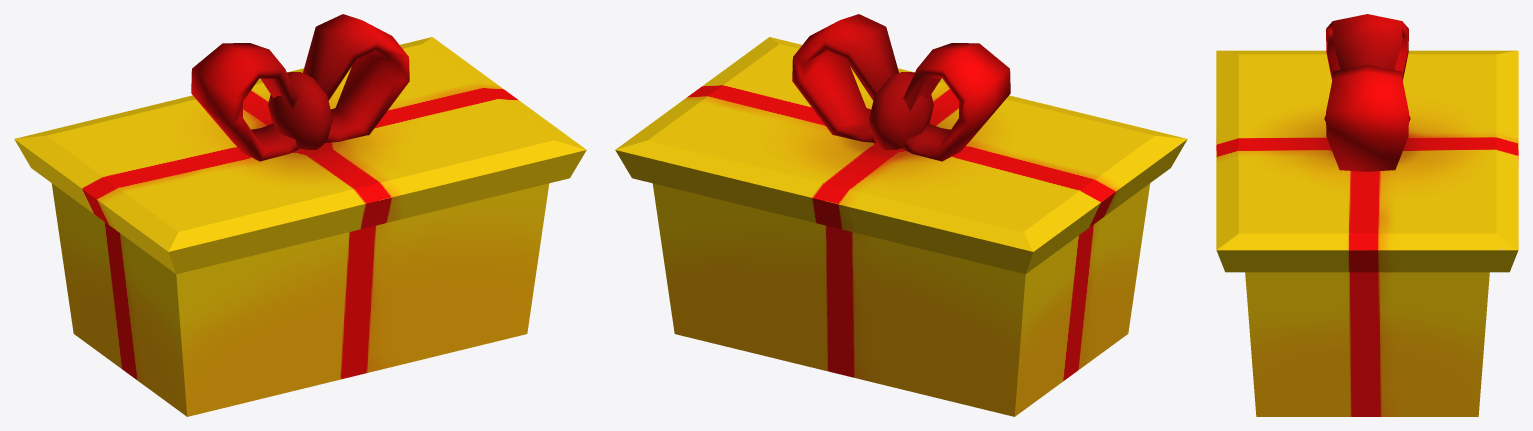
Rendered from presnts2.fbx.
3 views of the same model, side by side, from view 1: azimuth 30°, elevation 25°; view 2: azimuth 150°, elevation 25°; view 3: azimuth 270°, elevation 25° (orthographic). The views are drawn at different scales.
Visible parts, largest first — view 1: Presents2; view 2: Presents2; view 3: Presents2.
Boxes of the visible parts, x1,y1,x2,y2 form: Presents2: (14, 14, 586, 416); Presents2: (615, 14, 1187, 416); Presents2: (1216, 14, 1518, 416).
Size of the model in its own units: 2.25 by 1.54 by 1.44.
1 material, 1 textured.
